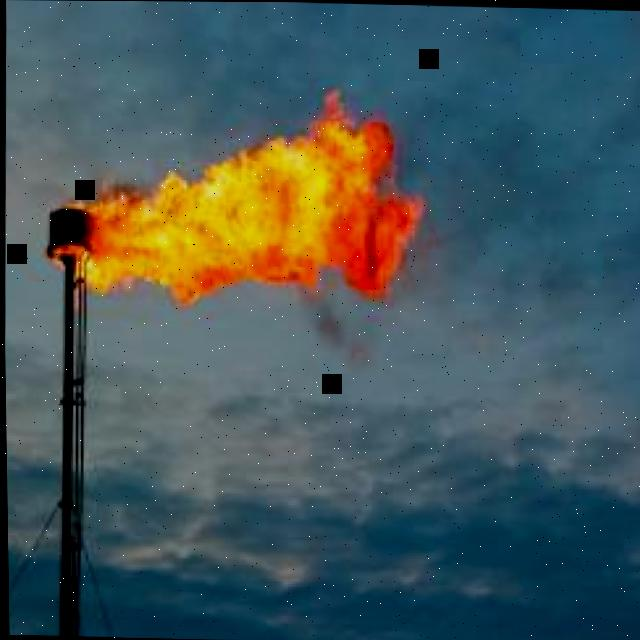fire: (53, 89, 423, 304)
